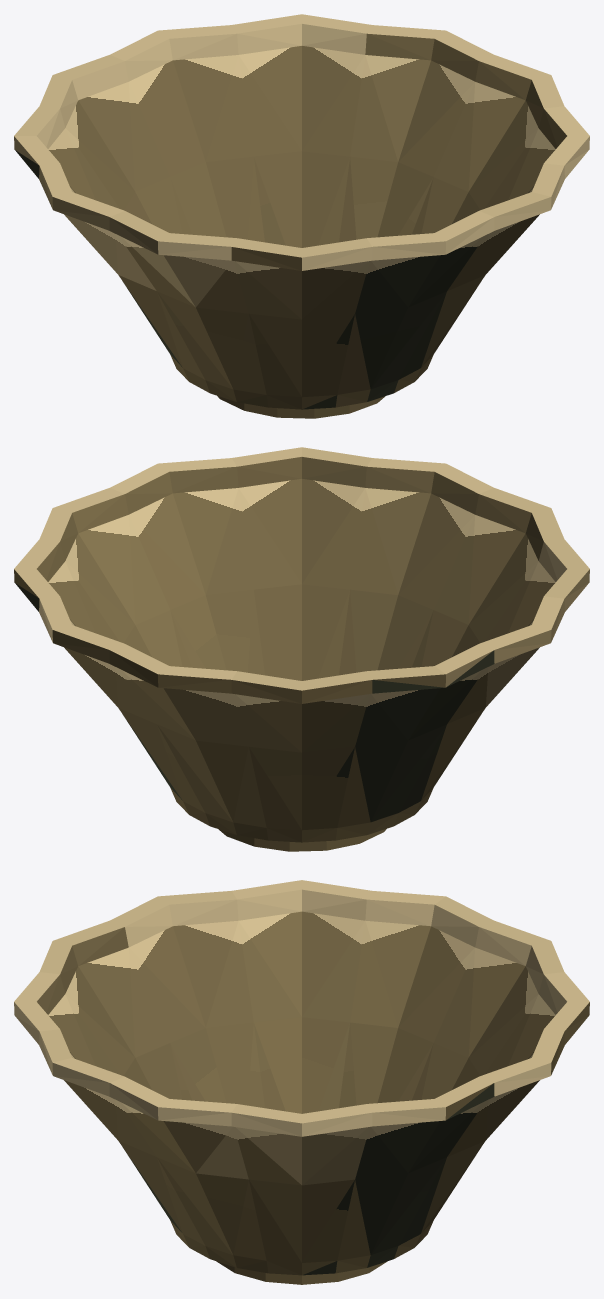
File: vessel-mashiko.glb
3 views of the same model, one above another, from view 1: azimuth 30°, elevation 25°; view 2: azimuth 150°, elevation 25°; view 3: azimuth 270°, elevation 25° (orthographic).
Parts seen in each view (by area): view 1: vessel-mashiko/complete-inner-outer-shell-with-drainage, vessel-mashiko/complete-open-foot-ring; view 2: vessel-mashiko/complete-inner-outer-shell-with-drainage, vessel-mashiko/complete-open-foot-ring; view 3: vessel-mashiko/complete-inner-outer-shell-with-drainage, vessel-mashiko/complete-open-foot-ring.
Boxes of the visible parts, x1,y1,x2,y2 form: vessel-mashiko/complete-inner-outer-shell-with-drainage: (14, 14, 589, 409); vessel-mashiko/complete-open-foot-ring: (217, 395, 385, 418); vessel-mashiko/complete-inner-outer-shell-with-drainage: (14, 447, 589, 842); vessel-mashiko/complete-open-foot-ring: (218, 828, 386, 851); vessel-mashiko/complete-inner-outer-shell-with-drainage: (14, 880, 589, 1275); vessel-mashiko/complete-open-foot-ring: (216, 1261, 387, 1284).
Bounding box in the file's own units: 0.3845 × 0.179 × 0.3845.
Materials: 1 (1 with a texture image).
